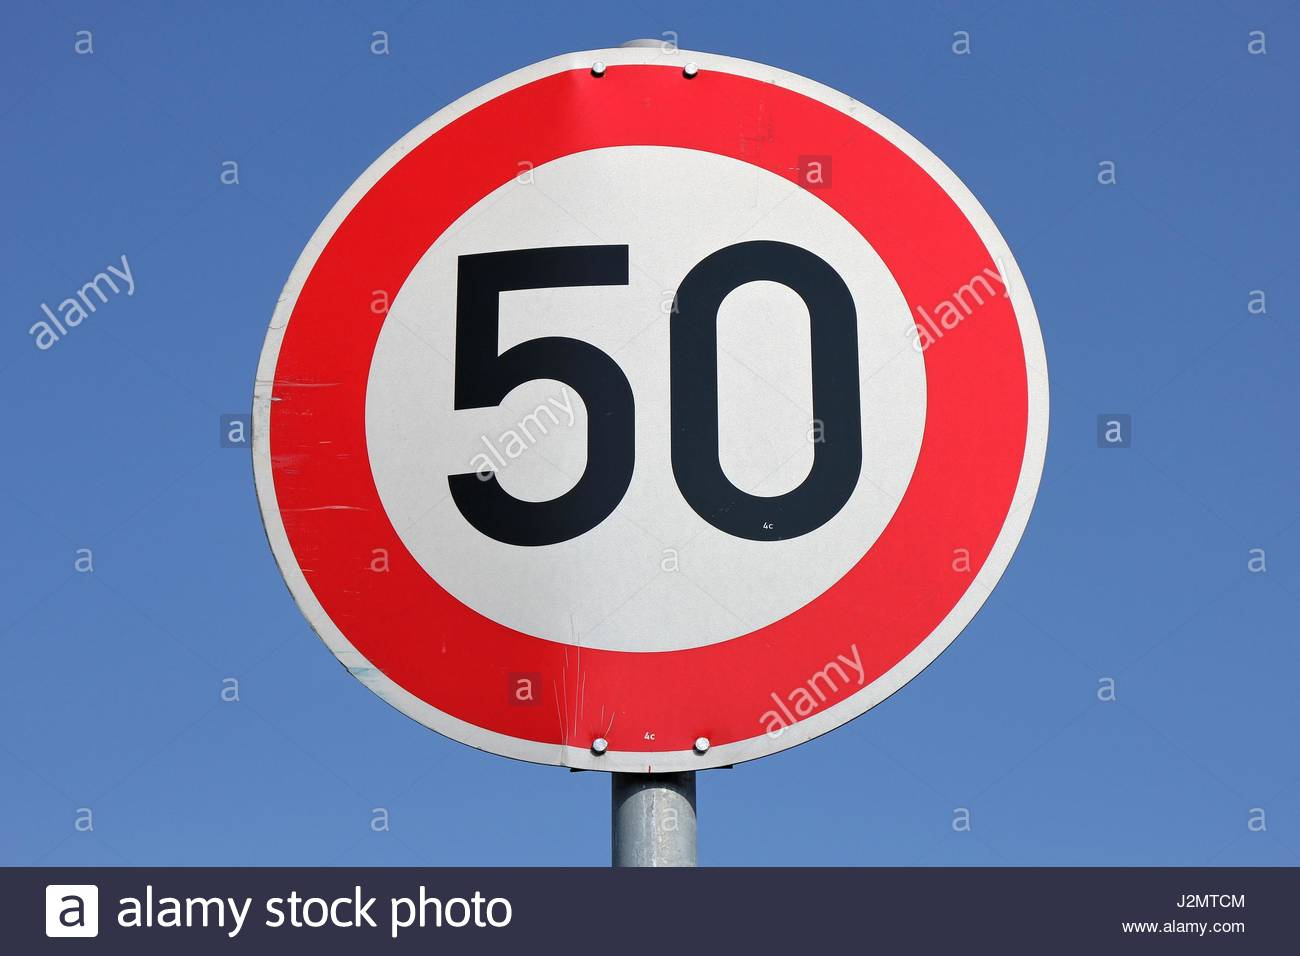Speed_limit_50km: (249, 44, 1061, 772)
